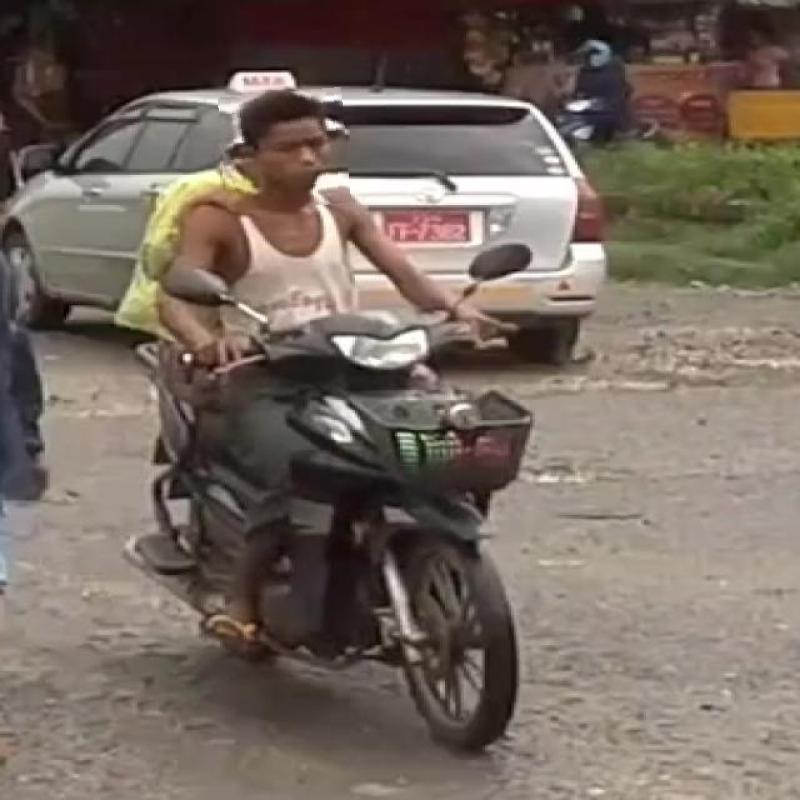nohelmet: (220, 90, 350, 210)
